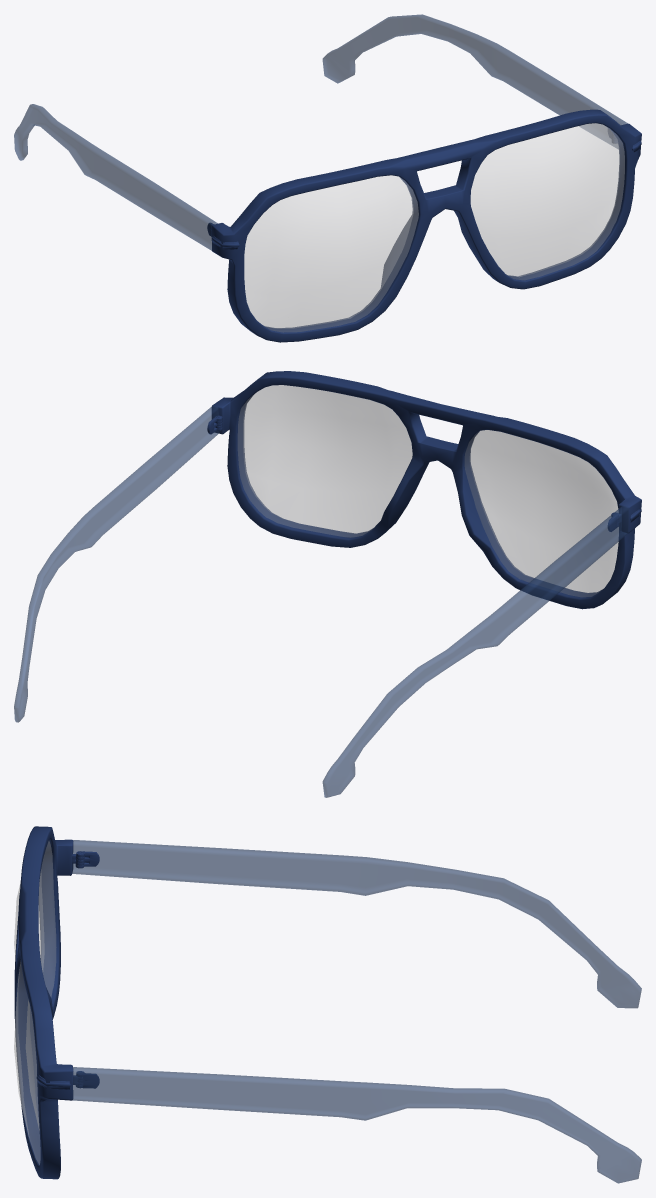
The model's file is panto-ince-gece-mavisi.glb.
3 renders of one model, top to bottom at view 1: azimuth 30°, elevation 25°; view 2: azimuth 150°, elevation 25°; view 3: azimuth 270°, elevation 25°, orthographic. The views are drawn at different scales.
Parts seen in each view (by area): view 1: OPTIK_PRODUCT_231; view 2: OPTIK_PRODUCT_231; view 3: OPTIK_PRODUCT_231.
Boxes of the visible parts, box(x1,y1,x2,y2) form: OPTIK_PRODUCT_231: box(14, 14, 641, 342); OPTIK_PRODUCT_231: box(14, 371, 641, 797); OPTIK_PRODUCT_231: box(14, 826, 641, 1183).
Size of the model in its own units: 0.1566 by 0.0575 by 0.1785.
